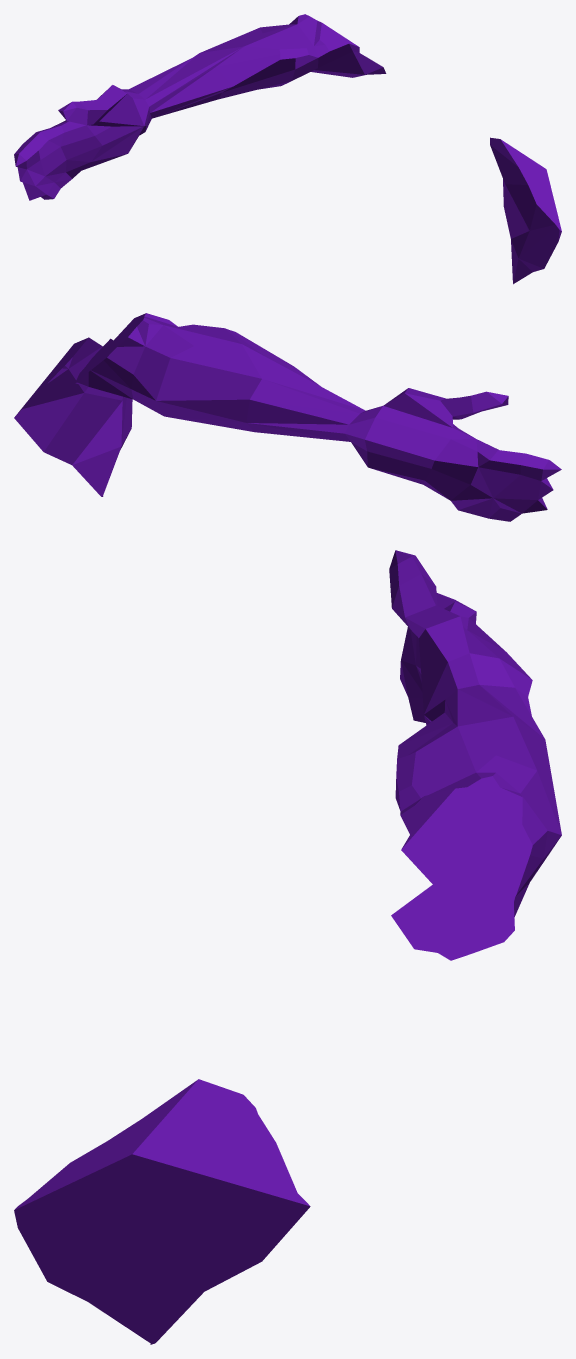
Rendered from TheMan_2_chunks.fbx.
3 views of the same model, one above another, from view 1: azimuth 30°, elevation 25°; view 2: azimuth 150°, elevation 25°; view 3: azimuth 270°, elevation 25° (orthographic). The views are drawn at different scales.
Visible parts, largest first — view 1: TheMan_2_0, TheMan_2_3, TheMan_2_2, TheMan_2_1; view 2: TheMan_2_0, TheMan_2_3, TheMan_2_1, TheMan_2_2; view 3: TheMan_2_1, TheMan_2_3, TheMan_2_0, TheMan_2_2.
Boxes of the visible parts, <box> form: TheMan_2_0: <box>14,63,217,200</box>; TheMan_2_3: <box>178,14,386,101</box>; TheMan_2_2: <box>495,138,561,267</box>; TheMan_2_1: <box>490,137,544,284</box>; TheMan_2_0: <box>264,375,561,521</box>; TheMan_2_3: <box>75,313,307,433</box>; TheMan_2_1: <box>14,347,131,496</box>; TheMan_2_2: <box>65,337,132,426</box>; TheMan_2_1: <box>46,1086,310,1344</box>; TheMan_2_3: <box>391,709,561,960</box>; TheMan_2_0: <box>389,550,537,738</box>; TheMan_2_2: <box>14,1079,219,1280</box>.
Size of the model in its own units: 978 by 476 by 519.
